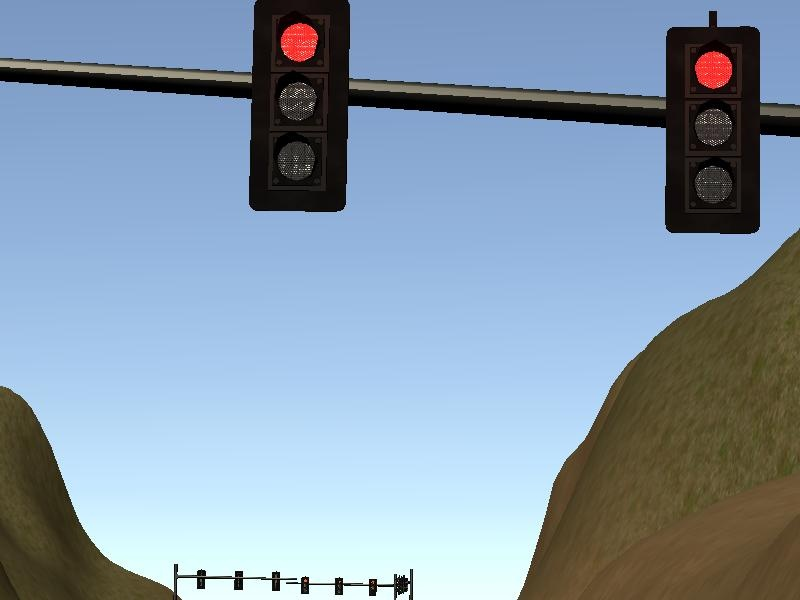red: (238, 1, 360, 216), (657, 20, 770, 243)
